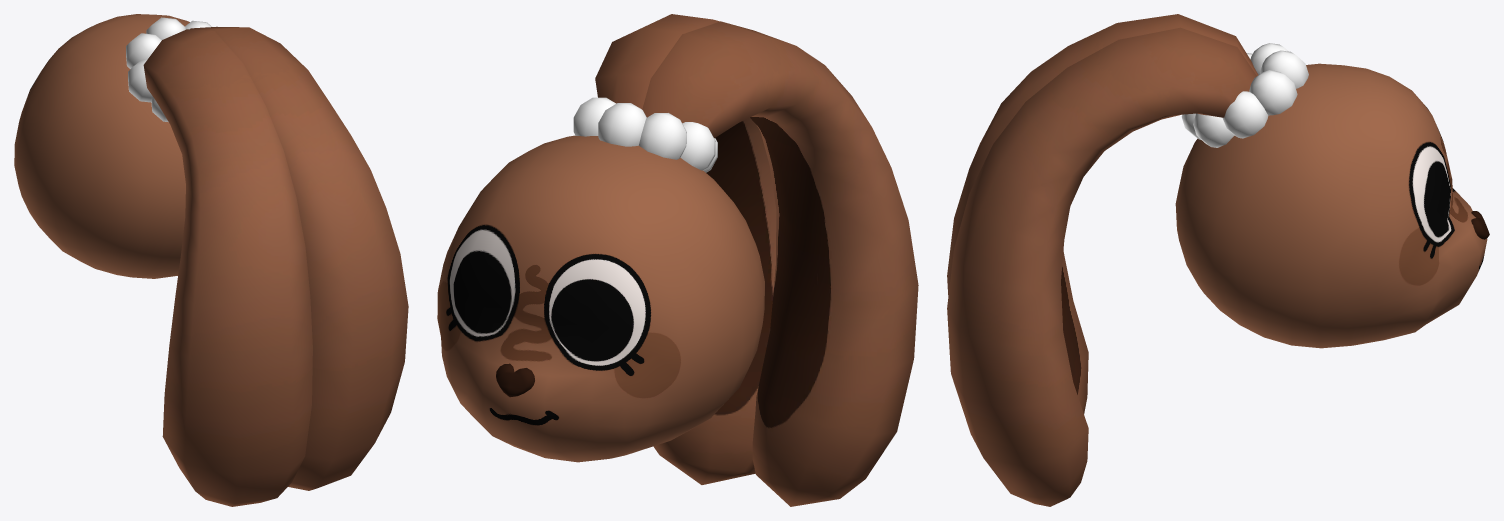
File: Cocoa.glb
The picture shows the model from 3 angles, left to right: view 1: azimuth 30°, elevation 25°; view 2: azimuth 150°, elevation 25°; view 3: azimuth 270°, elevation 25°; orthographic projection. The views are drawn at different scales.
Visible parts, largest first — view 1: Cocoa Head; view 2: Cocoa Head; view 3: Cocoa Head.
Boxes of the visible parts, x1,y1,x2,y2 form: Cocoa Head: [14, 14, 408, 506]; Cocoa Head: [437, 14, 918, 506]; Cocoa Head: [947, 14, 1489, 506].
Bounding box in the file's own units: 2.67 × 4.69 × 5.09.
Materials: 1 (1 with a texture image).
